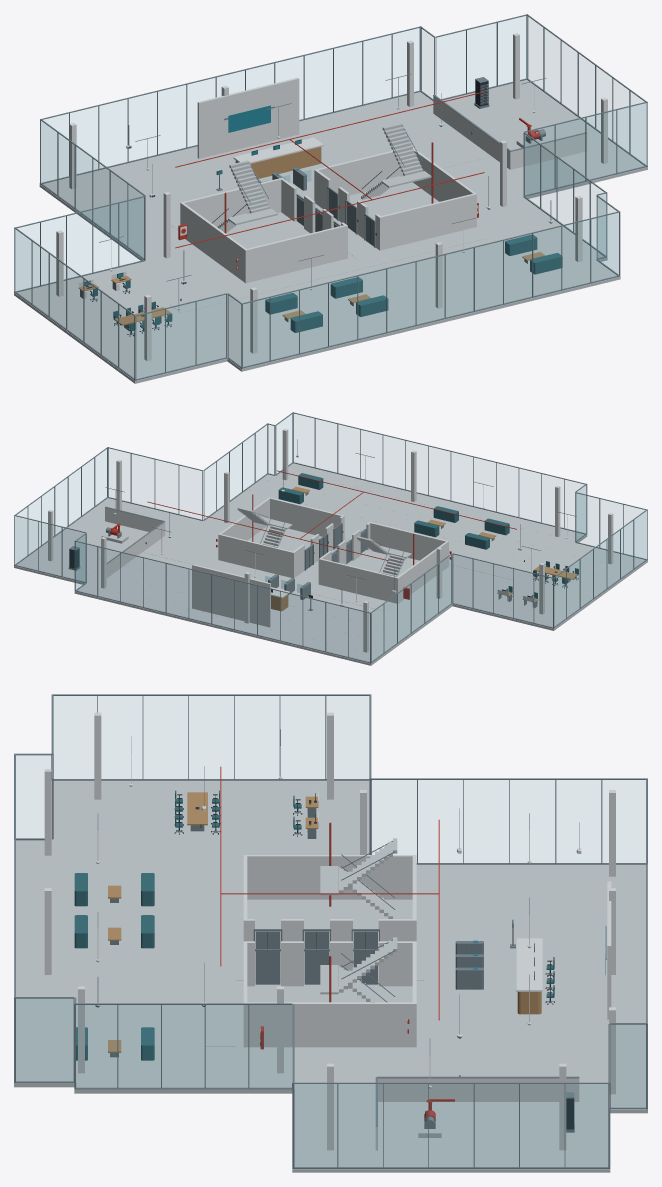
3 renders of one model, top to bottom at view 1: azimuth 30°, elevation 25°; view 2: azimuth 150°, elevation 25°; view 3: azimuth 270°, elevation 25°, orthographic. The views are drawn at different scales.
Parts seen in each view (by area): view 1: T1_F01_SLAB, T1_F01_WHITE, T1_F01_GLASS_S, T1_F01_GLASS_N, T1_F01_STEEL, T1_F01_GLASS_W, T1_F01_GLASS_E, T1_F01_FABRIC, T1_F01_WOOD, T1_F01_RED, T1_F01_SCREEN, T1_F01_DARK; view 2: T1_F01_SLAB, T1_F01_WHITE, T1_F01_GLASS_N, T1_F01_GLASS_S, T1_F01_STEEL, T1_F01_GLASS_W, T1_F01_GLASS_E, T1_F01_FABRIC, T1_F01_RED, T1_F01_WOOD, T1_F01_DARK; view 3: T1_F01_SLAB, T1_F01_GLASS_E, T1_F01_GLASS_W, T1_F01_WHITE, T1_F01_STEEL, T1_F01_FABRIC, T1_F01_WOOD, T1_F01_RED, T1_F01_DARK.
Boxes of the visible parts, x1,y1,x2,y2 form: T1_F01_SLAB: (14,80,647,383); T1_F01_WHITE: (56,33,607,361); T1_F01_GLASS_S: (137,104,645,377); T1_F01_GLASS_N: (18,17,526,274); T1_F01_STEEL: (14,14,647,380); T1_F01_GLASS_W: (15,121,240,377); T1_F01_GLASS_E: (421,17,642,255); T1_F01_FABRIC: (90,234,562,332); T1_F01_WOOD: (78,147,544,325); T1_F01_RED: (175,91,540,269); T1_F01_SCREEN: (85,85,551,299); T1_F01_DARK: (84,80,550,336); T1_F01_SLAB: (14,463,647,665); T1_F01_WHITE: (48,428,613,652); T1_F01_GLASS_N: (15,517,552,661); T1_F01_GLASS_S: (108,414,642,545); T1_F01_STEEL: (14,412,647,663); T1_F01_GLASS_W: (372,486,646,660); T1_F01_GLASS_E: (18,414,292,541); T1_F01_FABRIC: (278,473,578,598); T1_F01_RED: (110,470,516,599); T1_F01_WOOD: (271,486,577,611); T1_F01_DARK: (69,456,578,602); T1_F01_SLAB: (14,780,647,1172); T1_F01_GLASS_E: (16,999,645,1166); T1_F01_GLASS_W: (16,696,645,862); T1_F01_WHITE: (44,712,615,1150); T1_F01_STEEL: (14,694,647,1168); T1_F01_FABRIC: (74,790,554,1060); T1_F01_WOOD: (108,792,541,1052); T1_F01_RED: (220,766,454,1121); T1_F01_DARK: (96,793,577,1129).
Bounding box in the file's own units: 55.47 × 6 × 38.19.
